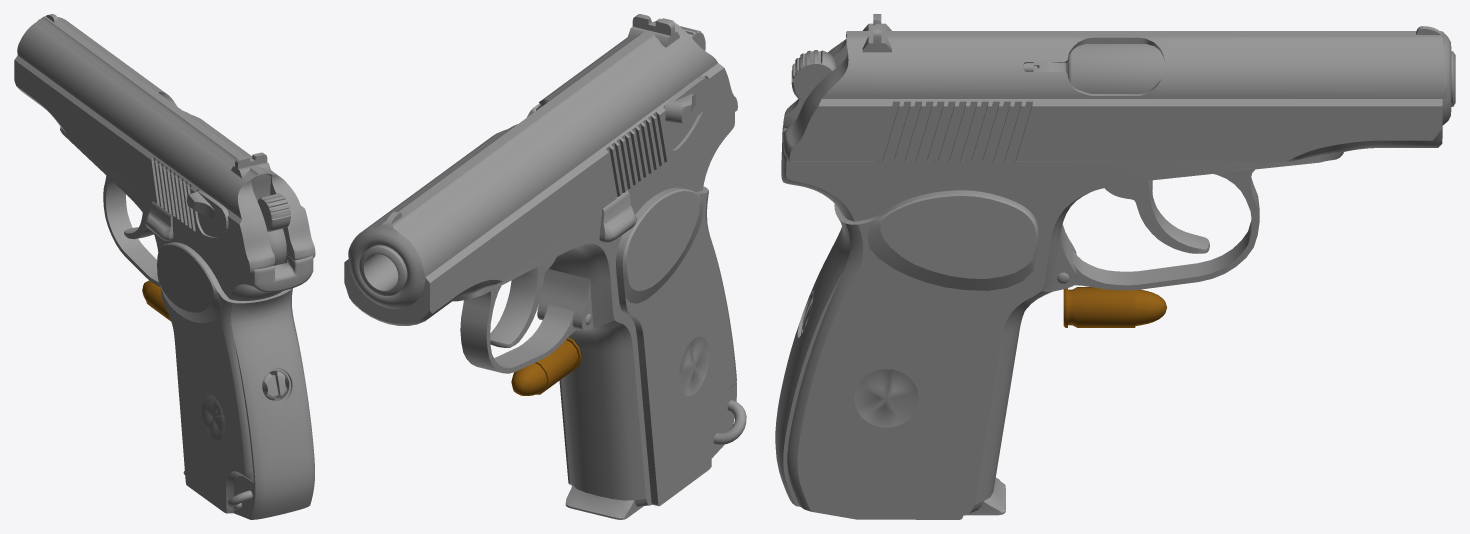
Rendered from makarov.fbx.
The picture shows the model from 3 angles, left to right: view 1: azimuth 30°, elevation 25°; view 2: azimuth 150°, elevation 25°; view 3: azimuth 270°, elevation 25°; orthographic projection. The views are drawn at different scales.
Parts seen in each view (by area): view 1: grip_low, slide_low, mainbody_low, triggerguard_low, hammer_low, safety_low, slidestop_low, gripscrew_low, sights_low, bullet_low; view 2: slide_low, grip_low, mainbody_low, triggerguard_low, trigger_low, bullet_low, barrel_low, safety_low, magazine_low, slidestop_low, sights_low, metalcatch_low; view 3: slide_low, grip_low, mainbody_low, triggerguard_low, barrel_low, bullet_low, trigger_low, hammer_low, sights_low.
Boxes of the visible parts, x1,y1,x2,y2 form: grip_low: (157, 242, 314, 519); slide_low: (14, 14, 315, 272); mainbody_low: (60, 127, 313, 300); triggerguard_low: (103, 176, 160, 287); hammer_low: (257, 193, 290, 265); safety_low: (187, 190, 228, 232); slidestop_low: (145, 201, 173, 240); gripscrew_low: (262, 370, 287, 400); sights_low: (231, 152, 270, 178); bullet_low: (142, 280, 171, 321); slide_low: (344, 18, 737, 325); grip_low: (559, 186, 736, 506); mainbody_low: (453, 112, 734, 506); triggerguard_low: (460, 286, 576, 373); trigger_low: (490, 257, 556, 347); bullet_low: (511, 337, 581, 395); barrel_low: (359, 245, 407, 295); safety_low: (664, 76, 711, 123); magazine_low: (565, 485, 643, 519); slidestop_low: (599, 190, 636, 242); sights_low: (627, 14, 679, 47); metalcatch_low: (713, 400, 746, 444); slide_low: (783, 26, 1451, 161); grip_low: (775, 190, 1038, 519); mainbody_low: (781, 125, 1343, 515); triggerguard_low: (1073, 169, 1259, 290); barrel_low: (1067, 44, 1455, 106); bullet_low: (1063, 287, 1166, 327); trigger_low: (1104, 180, 1209, 253); hammer_low: (791, 50, 837, 102); sights_low: (862, 14, 891, 52).
Bounding box in the file's own units: 31.7 × 126 × 161.
